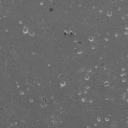corrosion: (21, 26, 29, 34), (59, 79, 66, 88), (87, 35, 94, 42), (106, 10, 113, 17), (48, 6, 55, 13), (84, 74, 90, 82), (103, 80, 109, 87), (96, 115, 102, 122), (76, 49, 82, 55), (19, 90, 25, 96), (103, 36, 109, 42), (104, 116, 110, 122), (121, 78, 127, 84), (120, 15, 126, 21), (46, 62, 52, 68), (36, 81, 42, 87), (17, 19, 23, 25), (16, 81, 21, 88), (80, 97, 85, 103), (114, 32, 119, 38), (121, 67, 126, 73), (104, 96, 110, 101), (90, 44, 96, 49), (124, 28, 128, 35), (94, 64, 99, 69), (50, 94, 55, 99), (29, 97, 33, 103), (99, 8, 103, 13), (77, 91, 82, 95), (85, 86, 89, 90), (117, 7, 121, 11)
